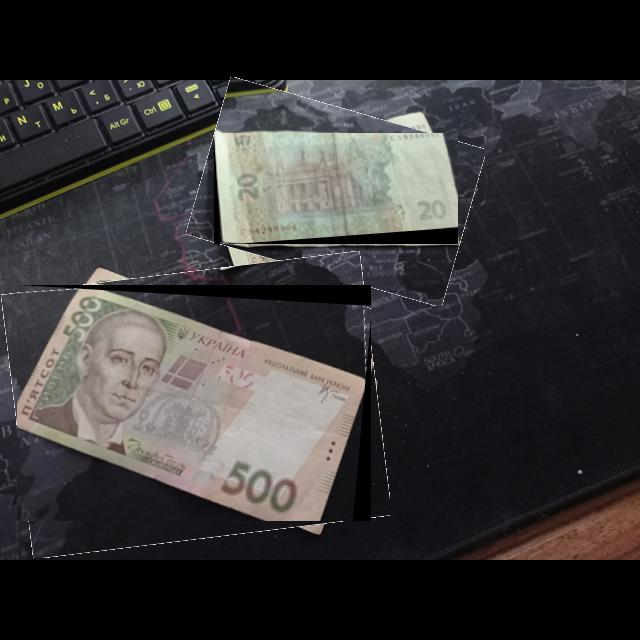20uah: (215, 133, 459, 244)
500uah: (17, 289, 368, 522)
